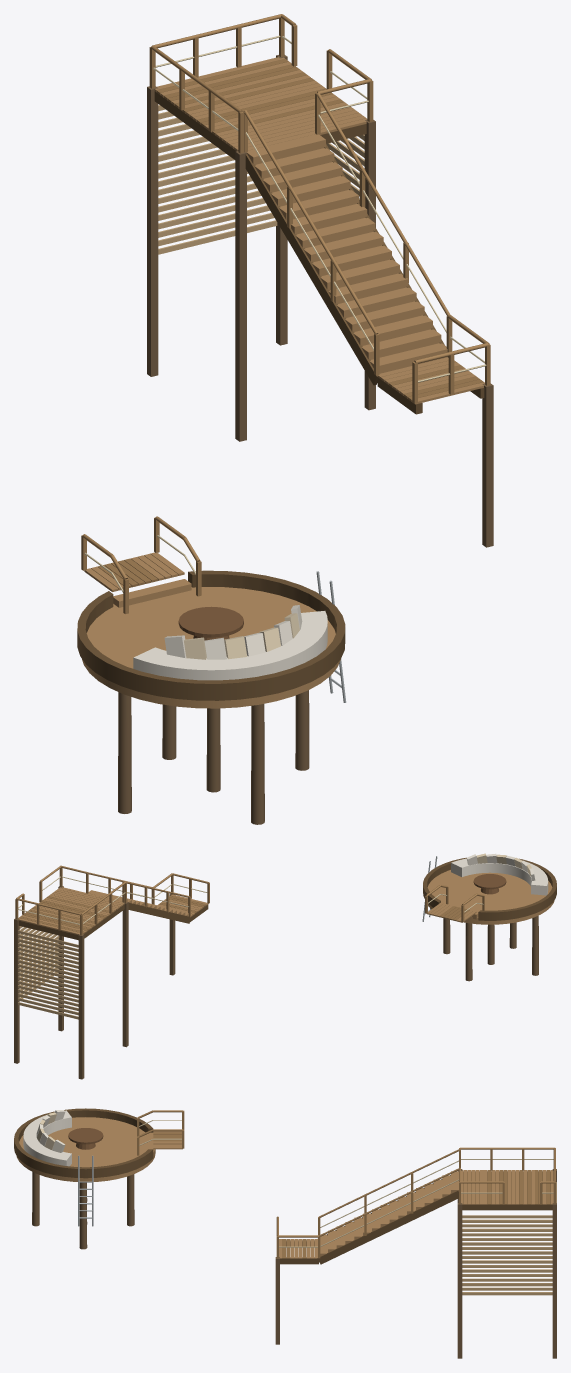
The model's file is grand-out.glb.
3 renders of one model, top to bottom at view 1: azimuth 30°, elevation 25°; view 2: azimuth 150°, elevation 25°; view 3: azimuth 270°, elevation 25°, orthographic. The views are drawn at different scales.
Parts seen in each view (by area): view 1: plank_21, beam_22, sofa_23, stilt_120, stilt_117, beam_80, stilt_121, stilt_17, stilt_13, table_33, stilt_118, stilt_119 (+22 smaller); view 2: plank_21, beam_22, sofa_23, stilt_117, stilt_120, stilt_118, beam_116, beam_80, stilt_15, table_33, stilt_13, stilt_121 (+2 smaller); view 3: plank_21, beam_22, sofa_23, beam_87, beam_116, stilt_119, stilt_118, stilt_19, table_33, stilt_121, stilt_17, stilt_15 (+15 smaller).
Boxes of the visible parts, left/top/right/bottom form: plank_21: left=82, top=587, right=340, bottom=708; beam_22: left=77, top=570, right=345, bottom=700; sofa_23: left=133, top=611, right=327, bottom=680; stilt_120: left=235, top=151, right=246, bottom=441; stilt_117: left=147, top=86, right=158, bottom=376; beam_80: left=245, top=154, right=378, bottom=385; stilt_121: left=482, top=383, right=493, bottom=547; stilt_17: left=251, top=704, right=264, bottom=824; stilt_13: left=118, top=692, right=131, bottom=813; table_33: left=178, top=606, right=243, bottom=637; stilt_118: left=276, top=55, right=287, bottom=345; stilt_119: left=364, top=119, right=375, bottom=410; plank_21: left=427, top=870, right=554, bottom=924; beam_22: left=423, top=857, right=556, bottom=920; sofa_23: left=451, top=858, right=548, bottom=895; stilt_117: left=78, top=934, right=84, bottom=1079; stilt_120: left=122, top=902, right=128, bottom=1047; stilt_118: left=14, top=918, right=19, bottom=1063; beam_116: left=18, top=904, right=124, bottom=940; beam_80: left=128, top=903, right=190, bottom=923; stilt_15: left=465, top=923, right=472, bottom=981; table_33: left=473, top=874, right=506, bottom=889; stilt_13: left=532, top=915, right=538, bottom=975; stilt_121: left=169, top=893, right=175, bottom=975; plank_21: left=16, top=1117, right=155, bottom=1181; beam_22: left=14, top=1108, right=153, bottom=1178; sofa_23: left=23, top=1110, right=71, bottom=1166; beam_87: left=317, top=1191, right=458, bottom=1264; beam_116: left=462, top=1171, right=552, bottom=1210; stilt_119: left=457, top=1203, right=462, bottom=1358; stilt_118: left=552, top=1203, right=556, bottom=1358; stilt_19: left=79, top=1182, right=87, bottom=1249; table_33: left=68, top=1128, right=103, bottom=1144; stilt_121: left=275, top=1257, right=279, bottom=1344; stilt_17: left=32, top=1172, right=39, bottom=1226; stilt_15: left=127, top=1174, right=134, bottom=1226.
Bounding box in the file's own units: 15.57 × 7.8 × 21.77.
